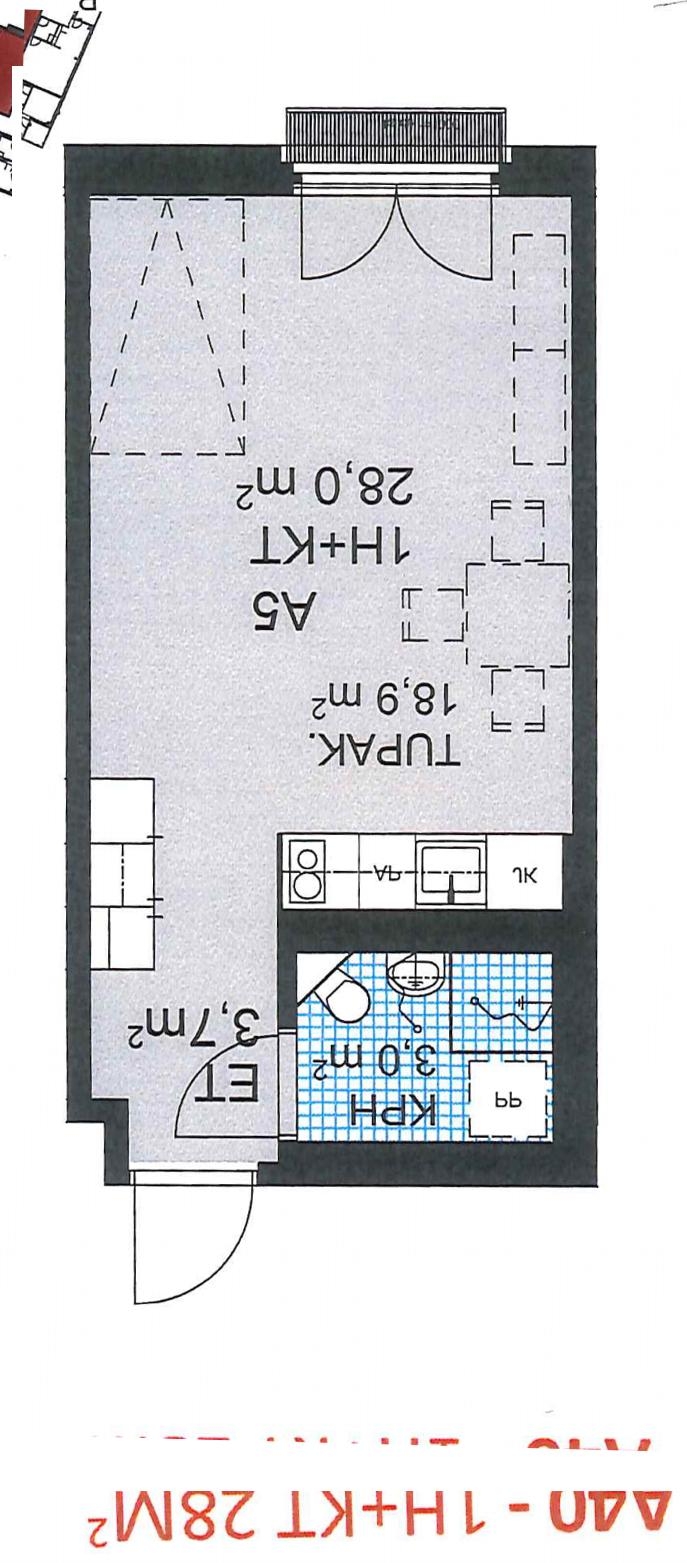bathroom: (291, 953, 553, 1140)
door: (126, 1157, 267, 1313), (170, 1028, 311, 1143)
perimeter: (63, 143, 595, 1184)
window: (287, 150, 509, 209)
